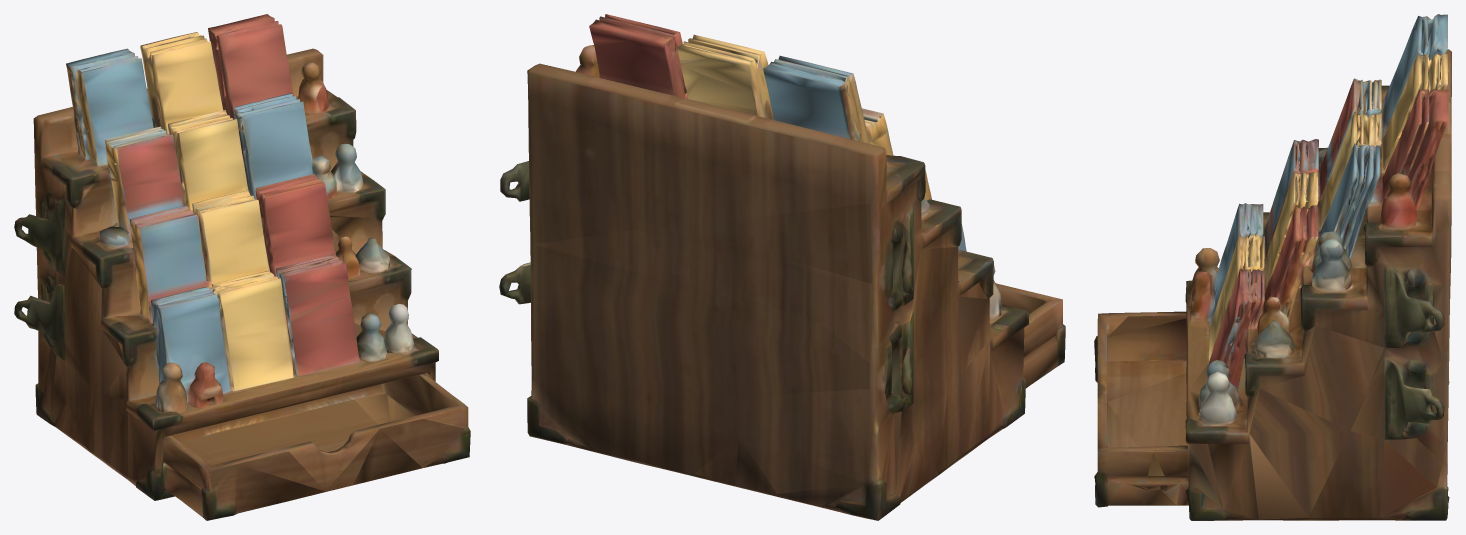
File: sc-card-tray.glb
3 views of the same model, side by side, from view 1: azimuth 30°, elevation 25°; view 2: azimuth 150°, elevation 25°; view 3: azimuth 270°, elevation 25° (orthographic). The views are drawn at different scales.
Visible parts, largest first — view 1: geometry_0; view 2: geometry_0; view 3: geometry_0.
Boxes of the visible parts, x1,y1,x2,y2 form: geometry_0: (14,14,470,520); geometry_0: (499,14,1065,520); geometry_0: (1094,14,1451,520).
Size of the model in its own units: 1 by 1 by 0.8634.
1 material, 1 textured.
